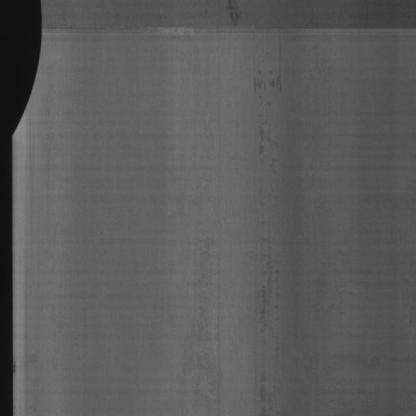crescent_gap: (7, 1, 48, 152)
welding_line: (37, 6, 416, 39)
